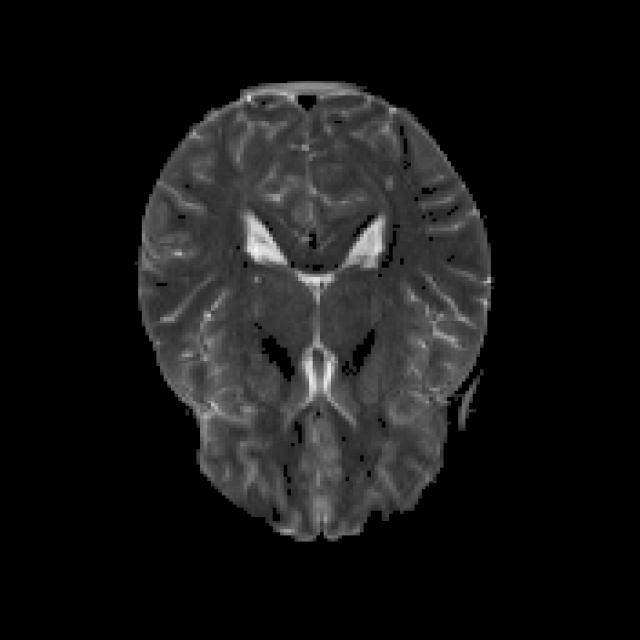CONTROL: (134, 77, 494, 541)
